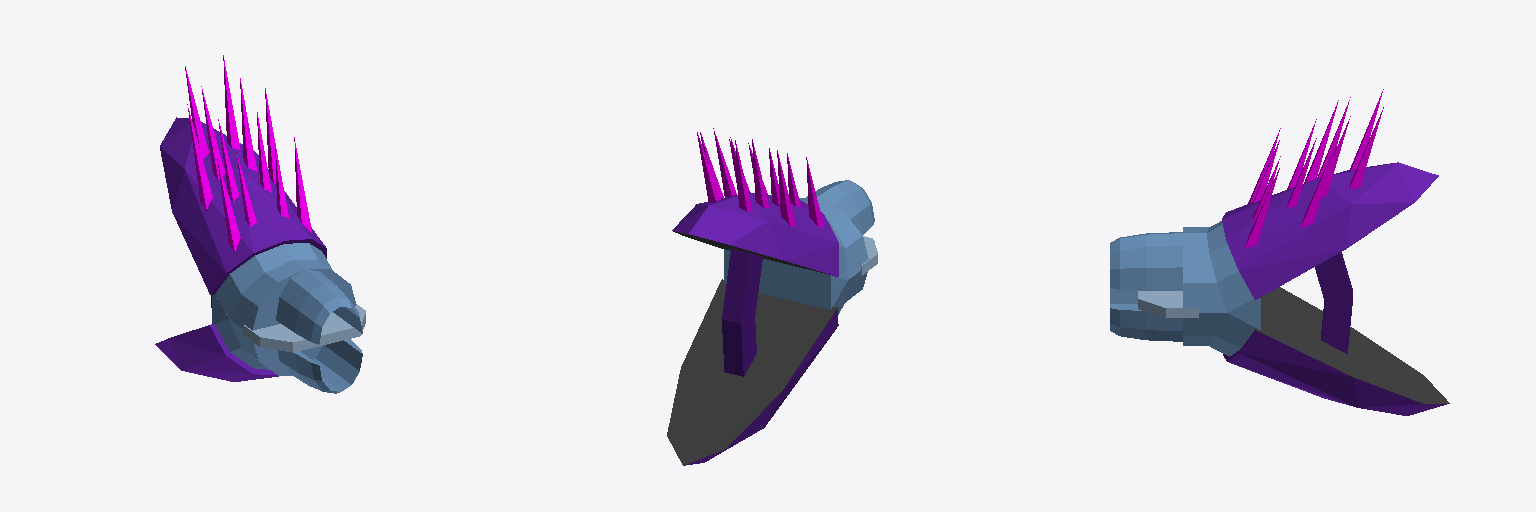
The model's file is Needler.obj.
3 renders of one model, left to right at view 1: azimuth 30°, elevation 25°; view 2: azimuth 150°, elevation 25°; view 3: azimuth 270°, elevation 25°, orthographic.
Parts seen in each view (by area): view 1: the_node.045_tri_1680_geometry; view 2: the_node.045_tri_1680_geometry; view 3: the_node.045_tri_1680_geometry.
Boxes of the visible parts, x1,y1,x2,y2 form: the_node.045_tri_1680_geometry: [155, 55, 365, 393]; the_node.045_tri_1680_geometry: [667, 128, 877, 465]; the_node.045_tri_1680_geometry: [1110, 89, 1449, 415].
Size of the model in its own units: 0.1875 by 0.4941 by 0.4754.